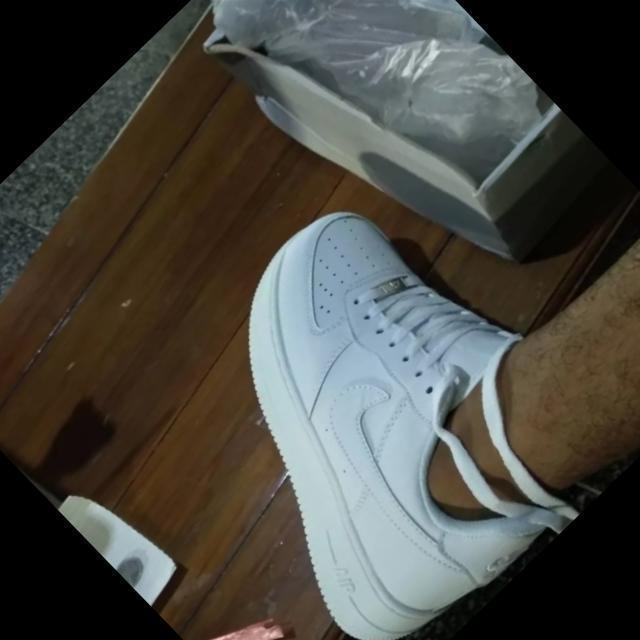nike fake air force: (118, 177, 623, 640), (156, 0, 567, 281)
